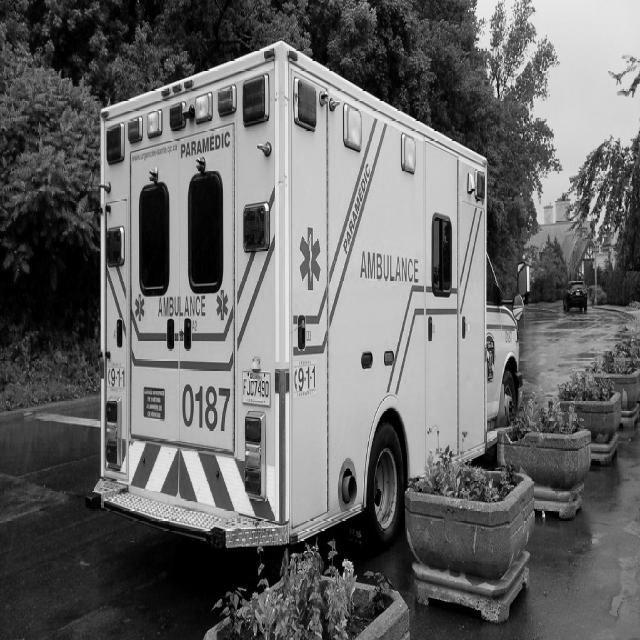Ambulance: (82, 44, 531, 557)
